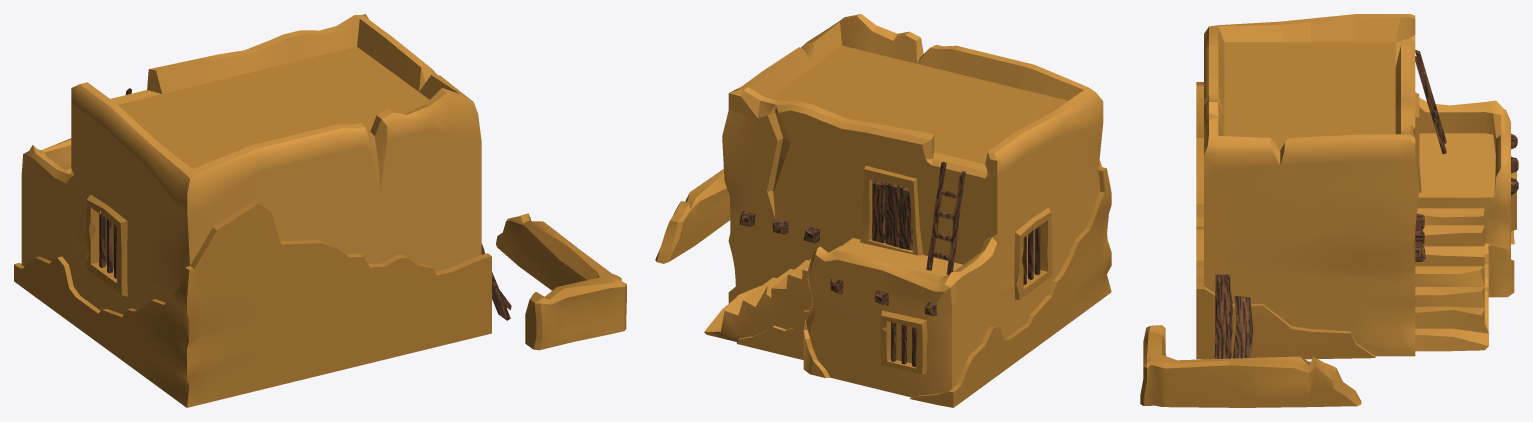
Rendered from Building_L1.fbx.
The picture shows the model from 3 angles, left to right: view 1: azimuth 30°, elevation 25°; view 2: azimuth 150°, elevation 25°; view 3: azimuth 270°, elevation 25°; orthographic projection. The views are drawn at different scales.
Visible parts, largest first — view 1: Big Building; view 2: Big Building; view 3: Big Building.
Part boxes in pixels (x1,y1,x2,y2): Big Building: (14, 14, 626, 407); Big Building: (655, 14, 1111, 407); Big Building: (1140, 14, 1518, 407).
Bounding box in the file's own units: 270 × 154 × 234.
